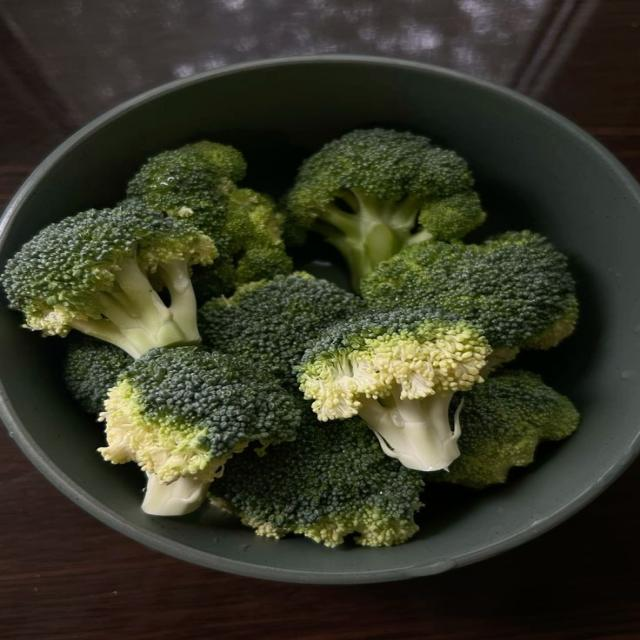broccoli: (100, 347, 300, 515), (2, 203, 217, 357), (286, 128, 485, 290), (299, 309, 490, 471), (212, 410, 423, 546), (362, 231, 577, 362), (127, 141, 292, 300), (200, 273, 365, 383), (429, 371, 579, 488), (193, 189, 293, 300), (127, 145, 232, 239), (64, 335, 131, 415), (181, 141, 246, 186)
